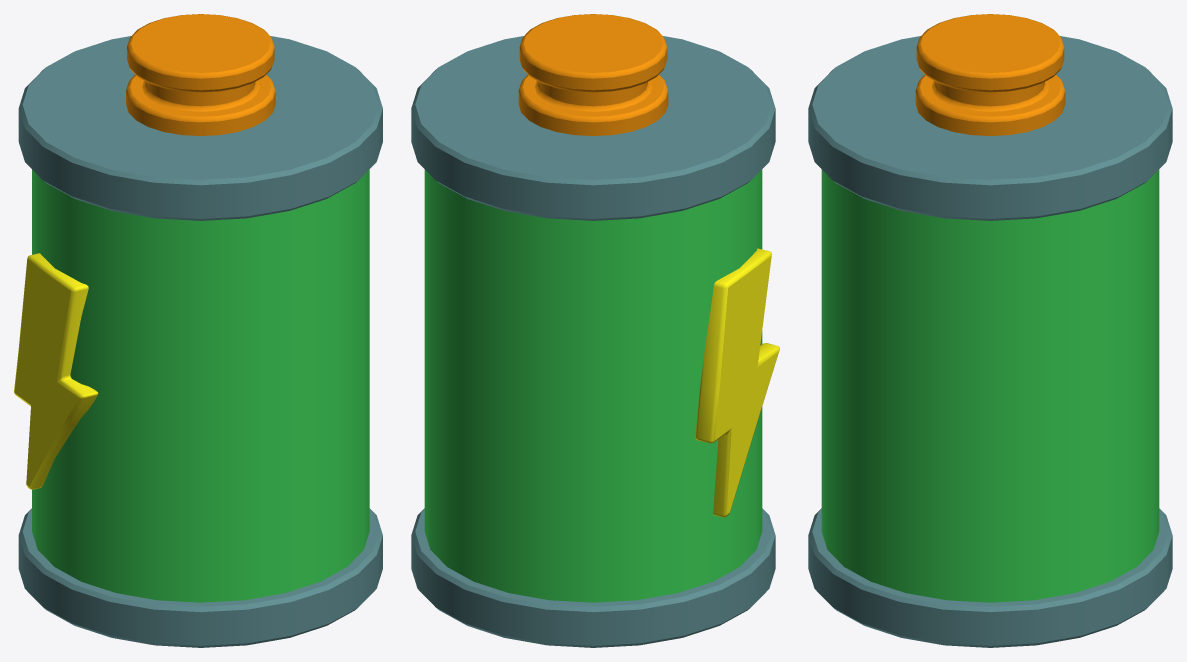
Rendered from battery_Level2_2.fbx.
3 views of the same model, side by side, from view 1: azimuth 30°, elevation 25°; view 2: azimuth 150°, elevation 25°; view 3: azimuth 270°, elevation 25° (orthographic).
Visible parts, largest first — view 1: Grom; view 2: Grom; view 3: Grom.
Part boxes in pixels (box(x1,y1,x2,y2)): Grom: box(14, 14, 382, 647); Grom: box(411, 14, 779, 647); Grom: box(808, 14, 1172, 647).
Bounding box in the file's own units: 0.8934 × 1.43 × 0.8934.
